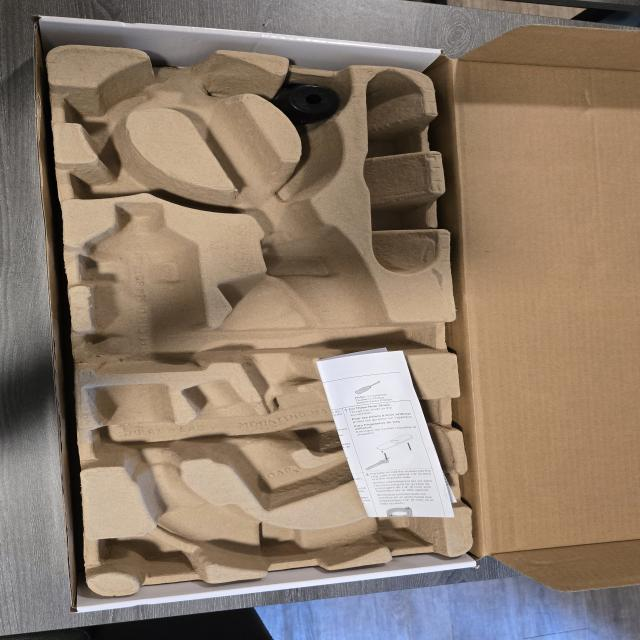1m: (87, 51, 456, 572)
2m: (184, 382, 378, 509)
3m: (84, 202, 208, 374)
4m: (363, 71, 439, 276)
5: (273, 86, 338, 124)
6m: (59, 78, 155, 143)
7m: (73, 150, 185, 203)
8: (319, 348, 458, 518)
